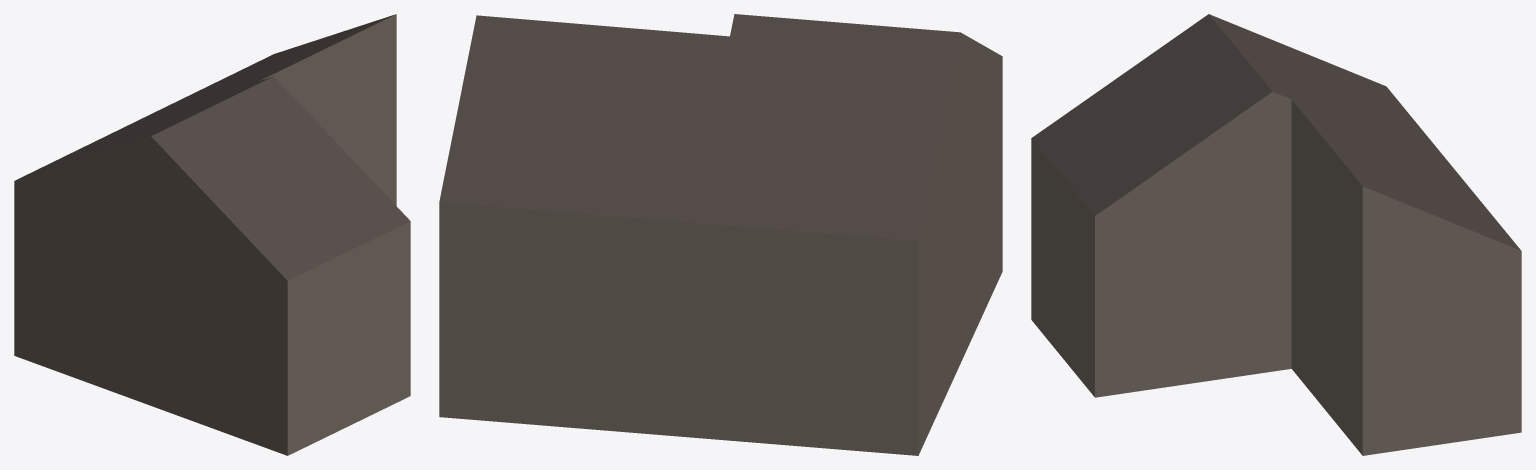
3 renders of one model, left to right at view 1: azimuth 30°, elevation 25°; view 2: azimuth 150°, elevation 25°; view 3: azimuth 270°, elevation 25°, orthographic. The views are drawn at different scales.
Visible parts, largest first — view 1: HP-w1211967250; view 2: HP-w1211967250; view 3: HP-w1211967250.
Part boxes in pixels (x1=…): HP-w1211967250: x1=14, y1=14, x2=410, y2=455; HP-w1211967250: x1=439, y1=14, x2=1002, y2=455; HP-w1211967250: x1=1031, y1=14, x2=1521, y2=455.
Bounding box in the file's own units: 13.32 × 9.25 × 14.68.
